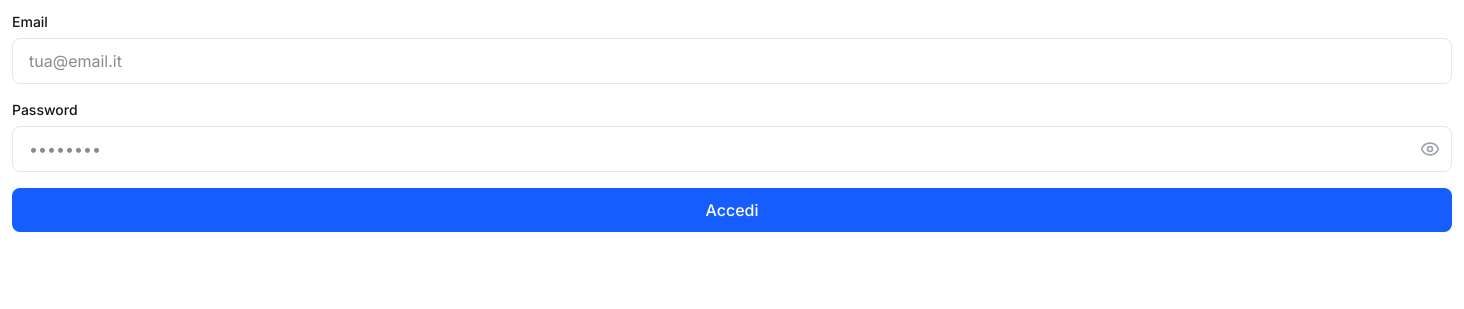
Test: LoginForm › mostra errore con credenziali errate
Type "test@test.it" into the field with placeholder "tua@email.it" at x=732, y=61, box x1=12 y1=38 x2=1452 y2=84
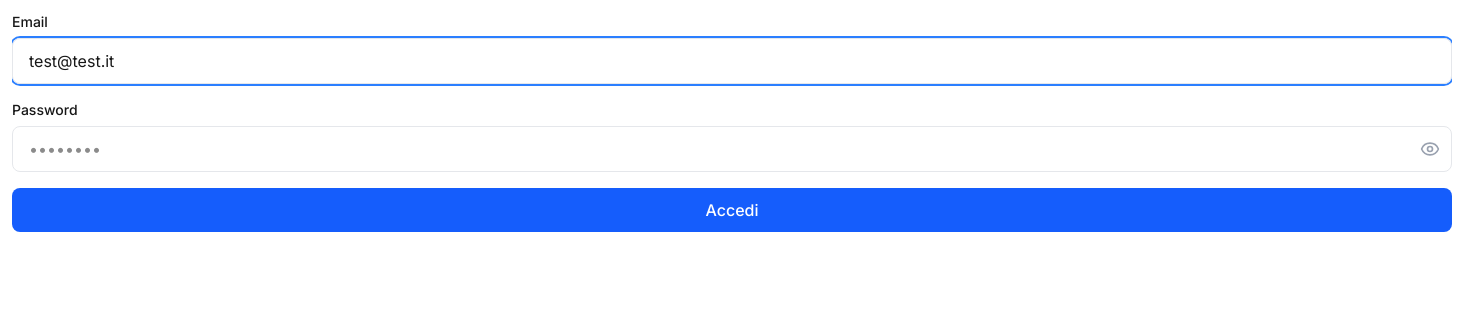
Type "wrongpassword" into the password field with placeholder "••••••••" at x=732, y=149, box x1=12 y1=126 x2=1452 y2=172
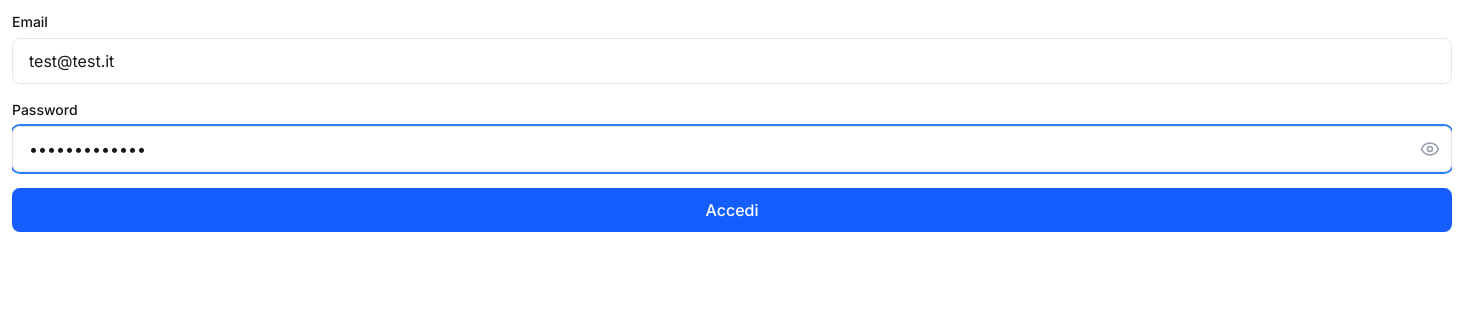
Click the button "Accedi" at x=732, y=210, box x1=12 y1=188 x2=1452 y2=232
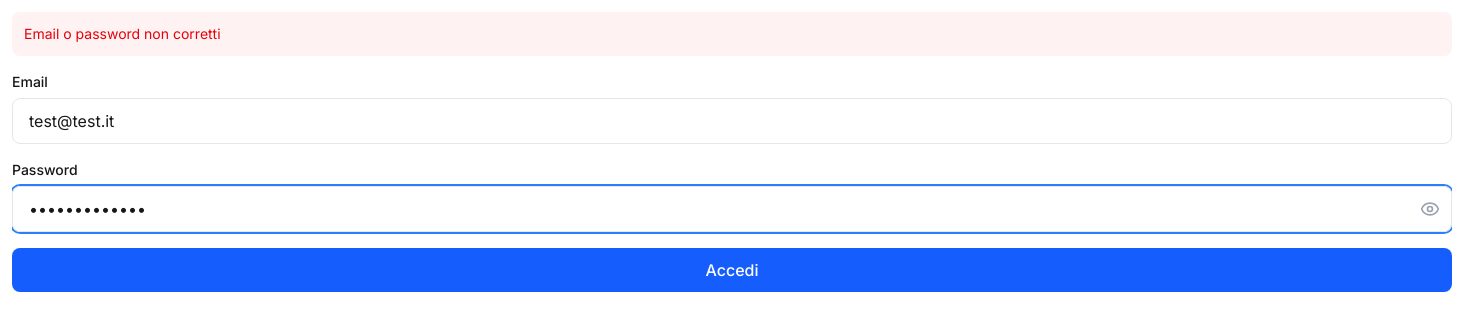
Now the text "Email o password non corretti" is shown, box x1=12 y1=12 x2=1452 y2=56
